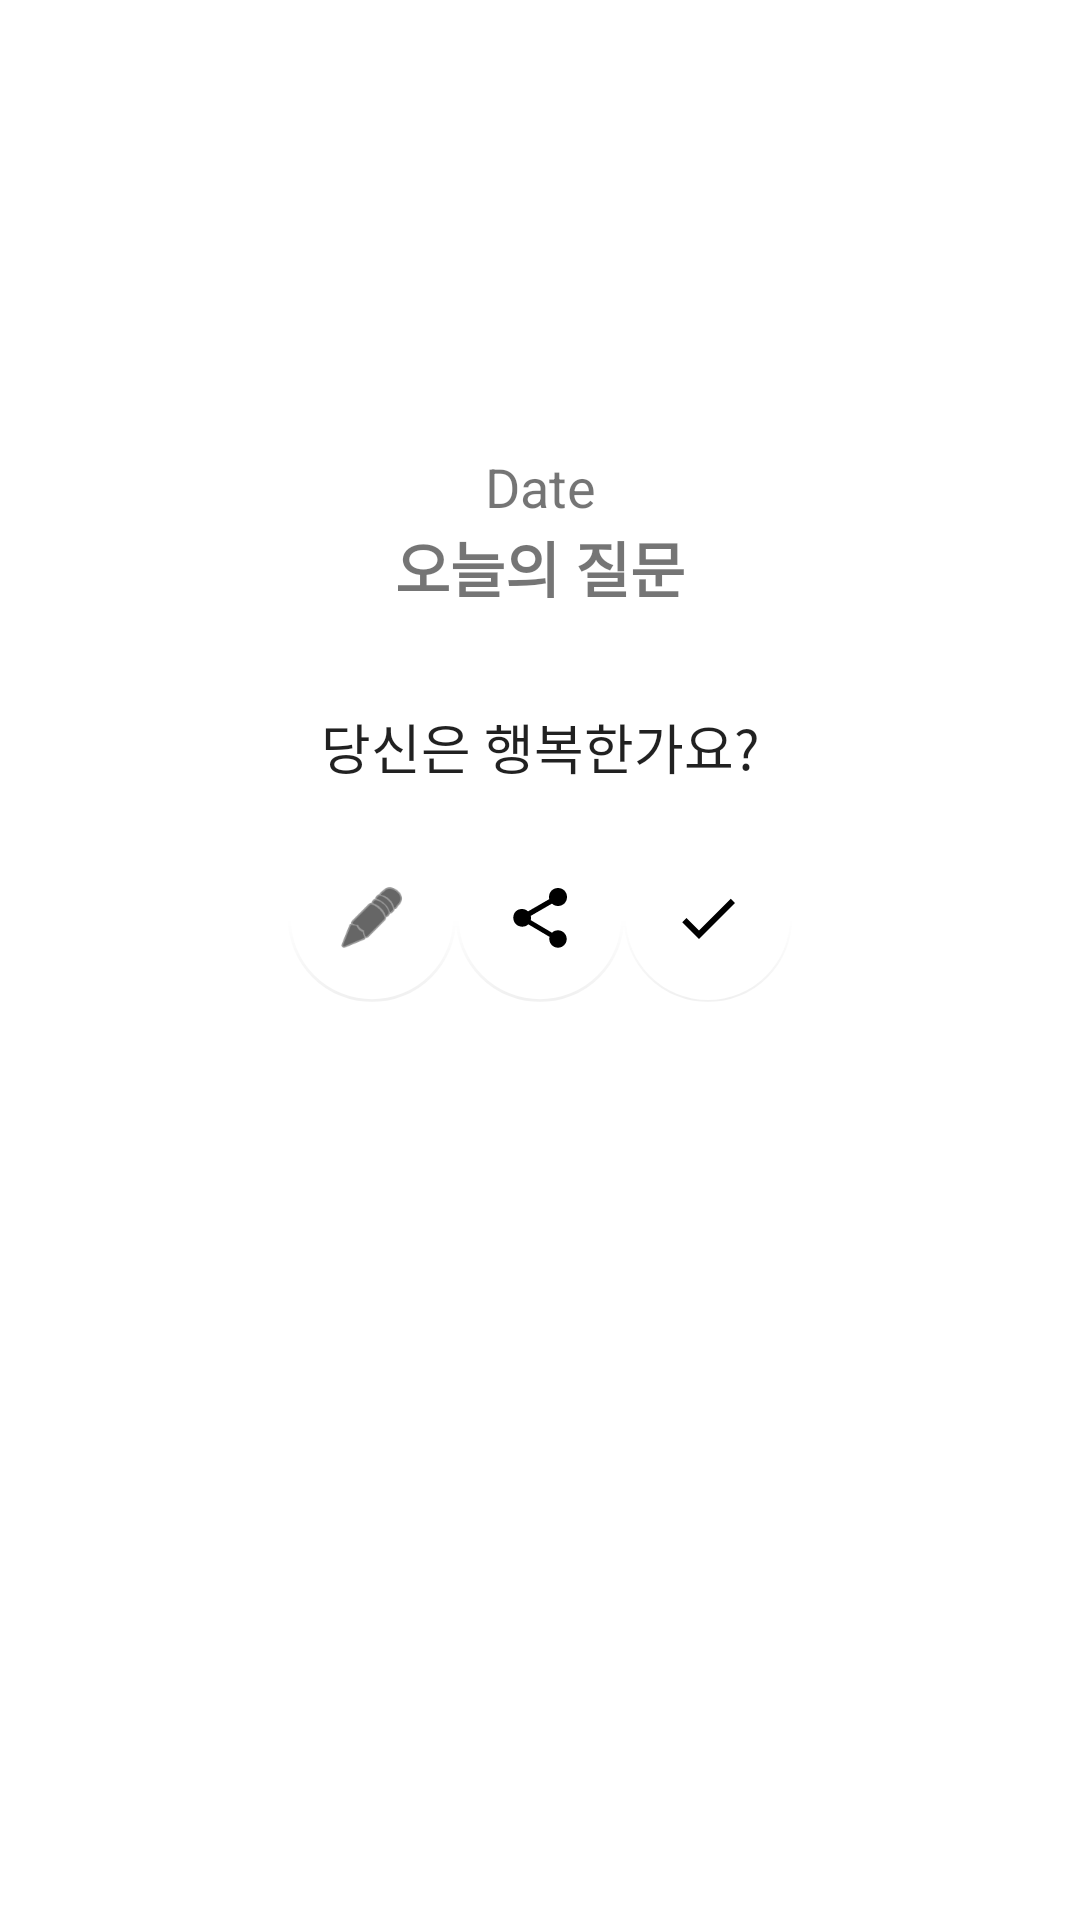

Icons on this 1080 × 1920 Android screen, each with its box as (x1, y1, x2, y2):
check: (682, 899, 735, 939)
edit: (341, 887, 402, 948)
